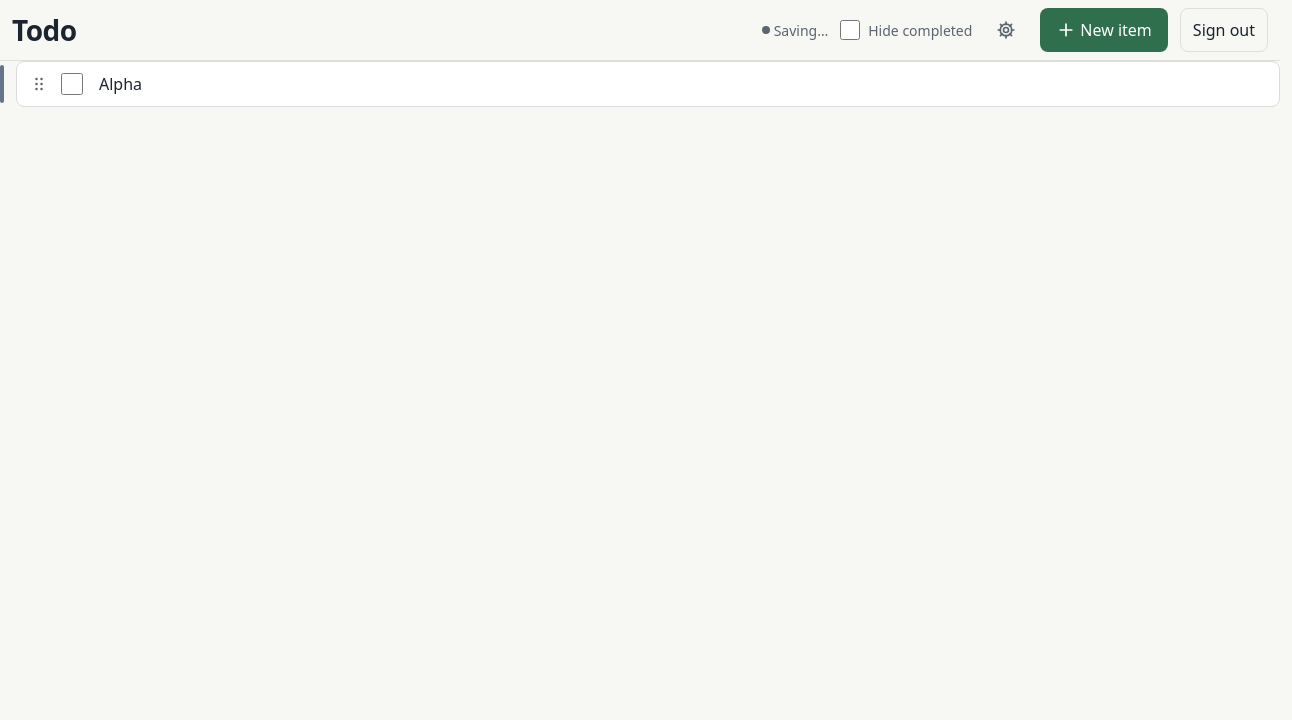
editor flow › opening Add under twice closes it
What coordinates should you click on to do the following:
click the button "Alpha"
I would click on:
 (121, 84)
Its box is [91,62,1279,106].
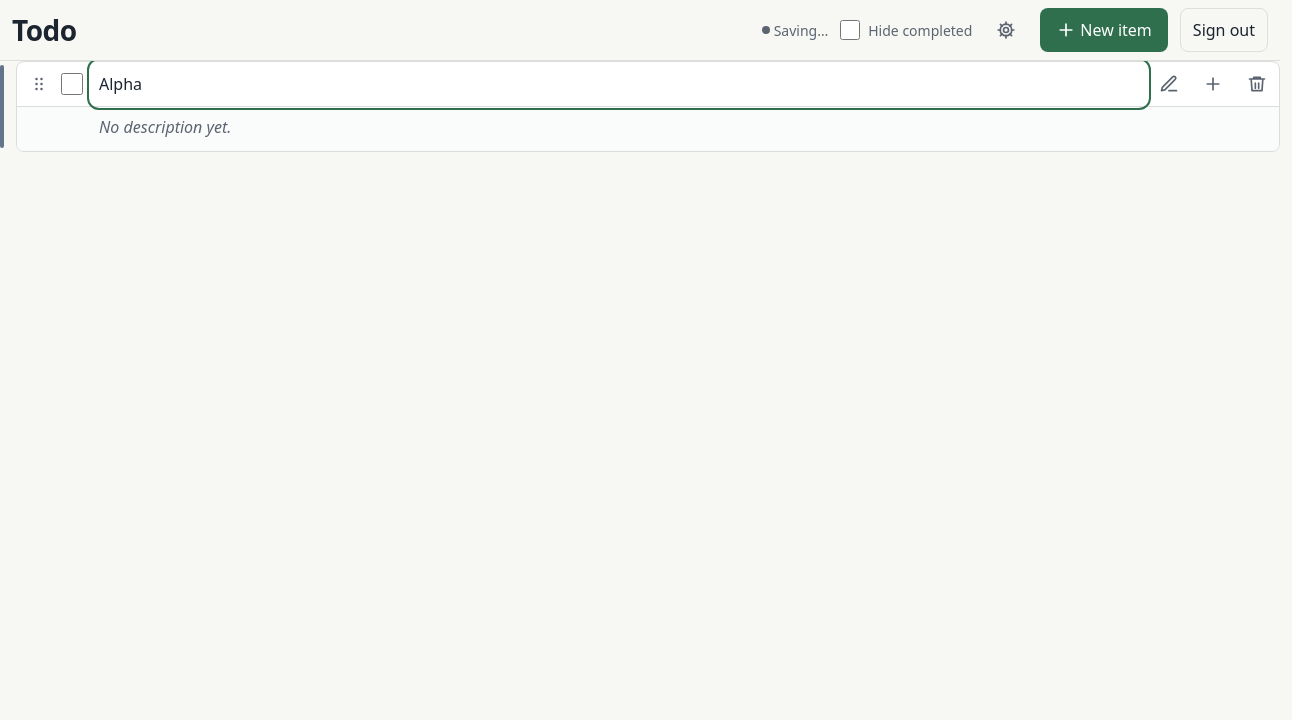
What coordinates should you click on to do the following:
click the button named "Add item under Alpha"
I would click on:
 (1213, 84)
Its box is [1191,62,1235,106].
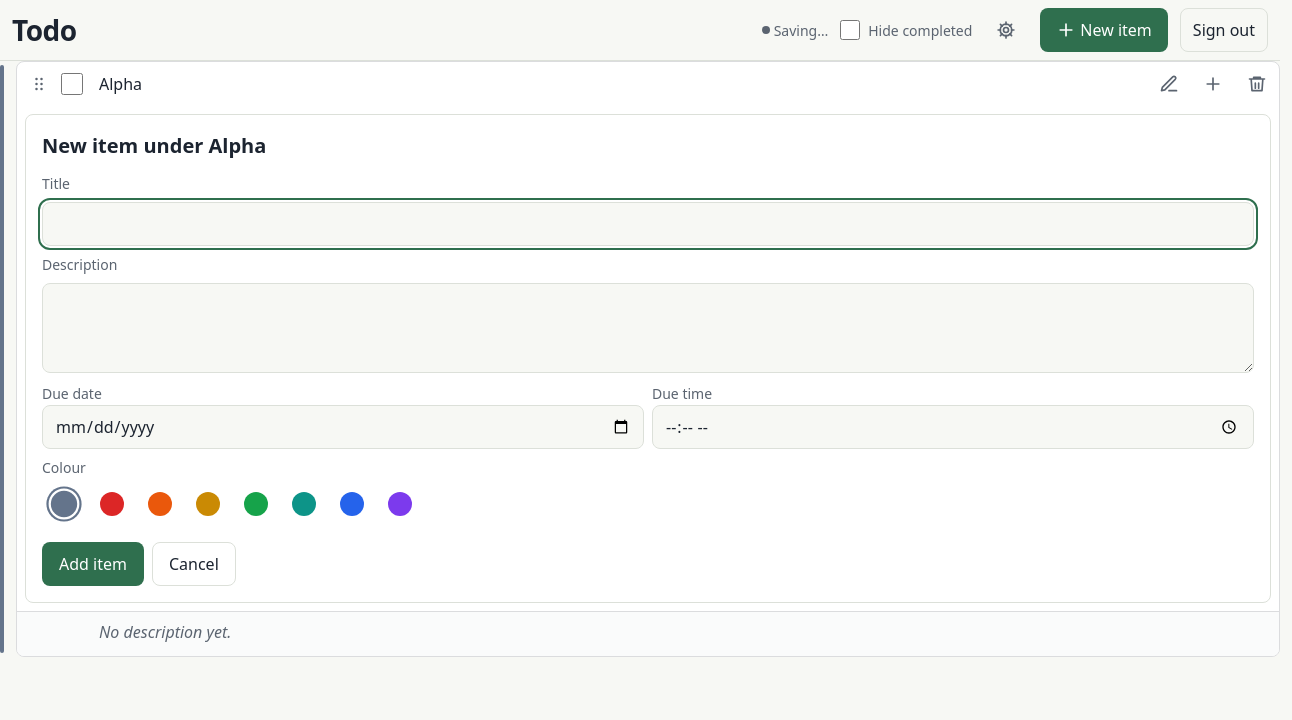
Now the form "New item under Alpha" is shown
What coordinates should you click on to do the following:
click the button named "Add item under Alpha"
I would click on:
 (1213, 84)
Its box is [1191,62,1235,106].
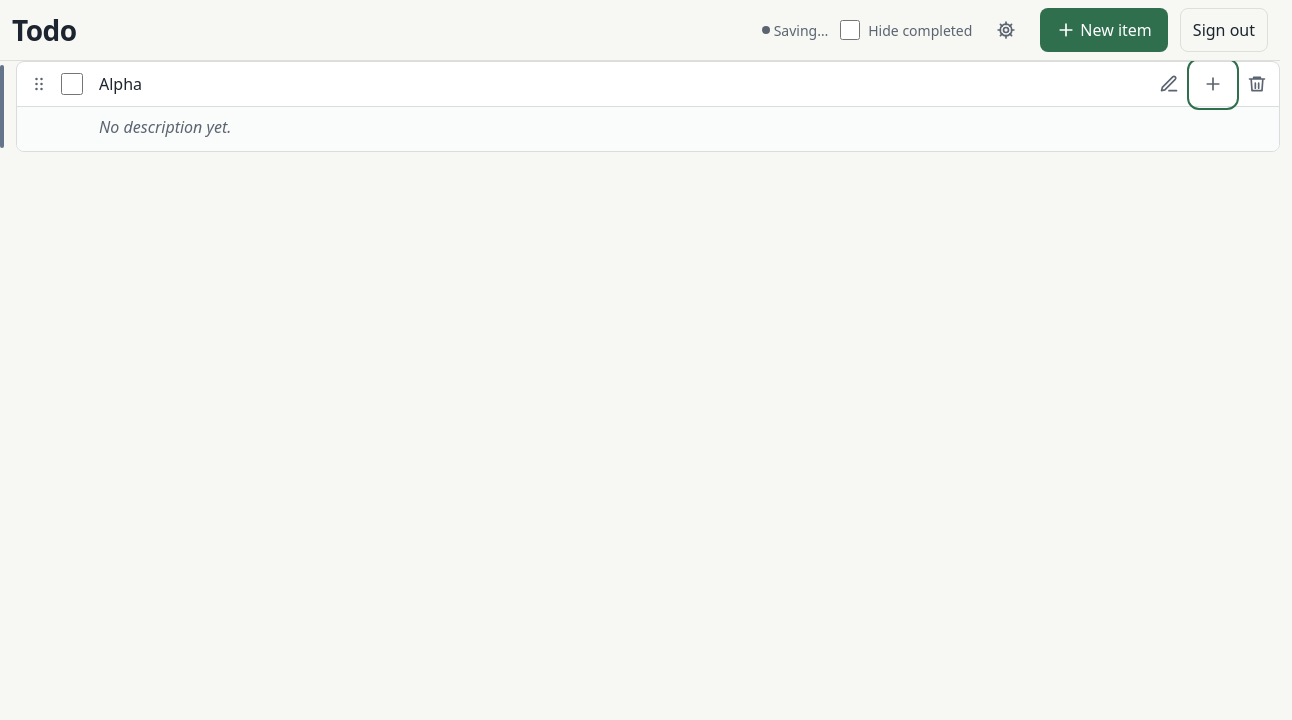
Now the heading "New item under Alpha" is gone
